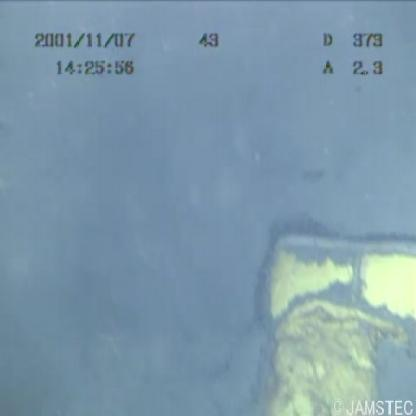Rác: (230, 195, 416, 415)
